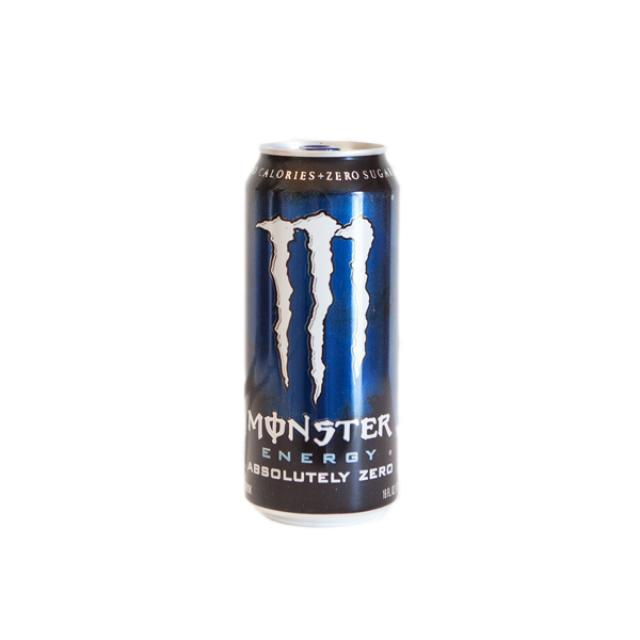Cans: (239, 137, 408, 530)
